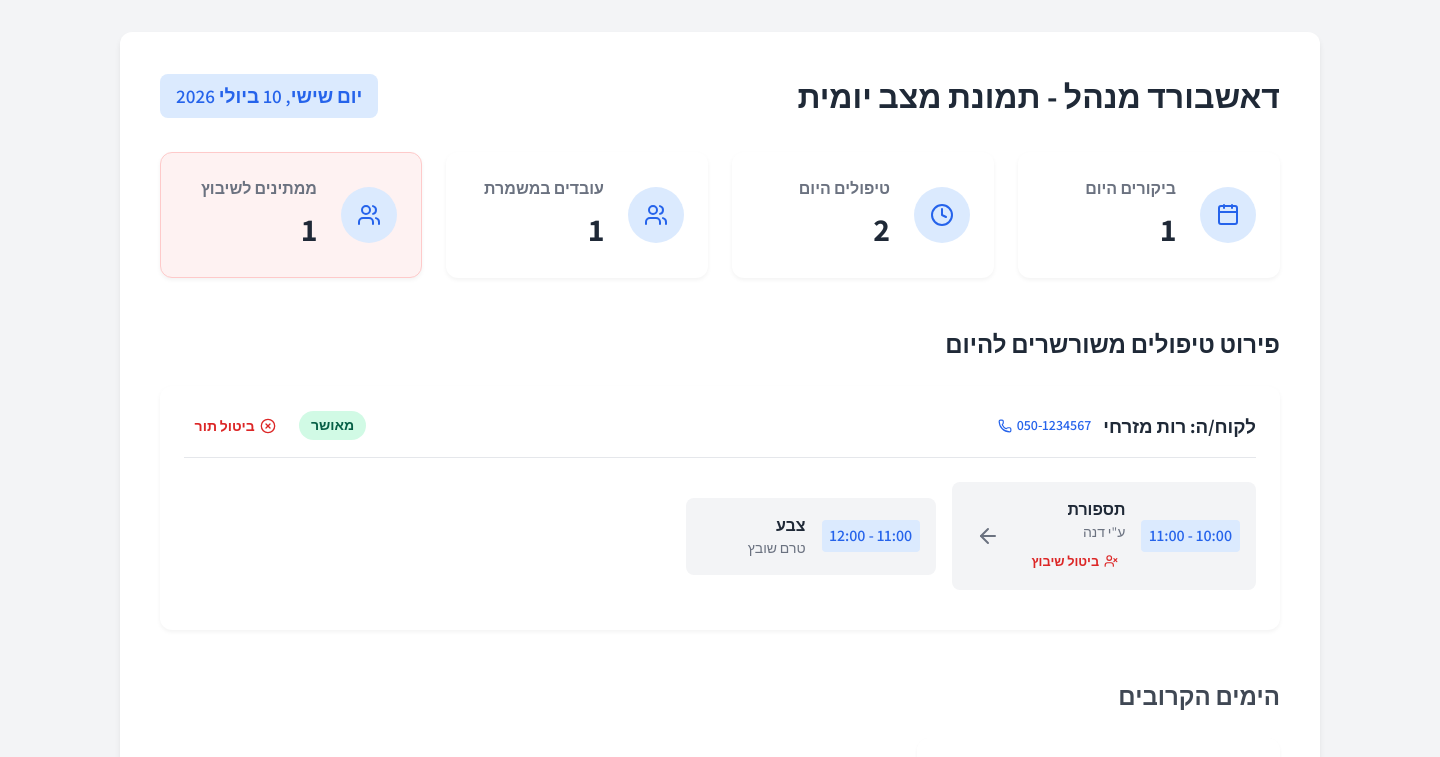
Test: ManagerDashboardPage › unassigning an item › unassigns after confirmation and marks the item unassigned
expect the heading "לקוח/ה: רות מזרחי" is shown: met, box [1103,412,1256,440]
What coordinates should you click on to do the following:
click the button "ביטול שיבוץ"
I would click on:
 (1075, 562)
Its box is [1024,549,1125,574].
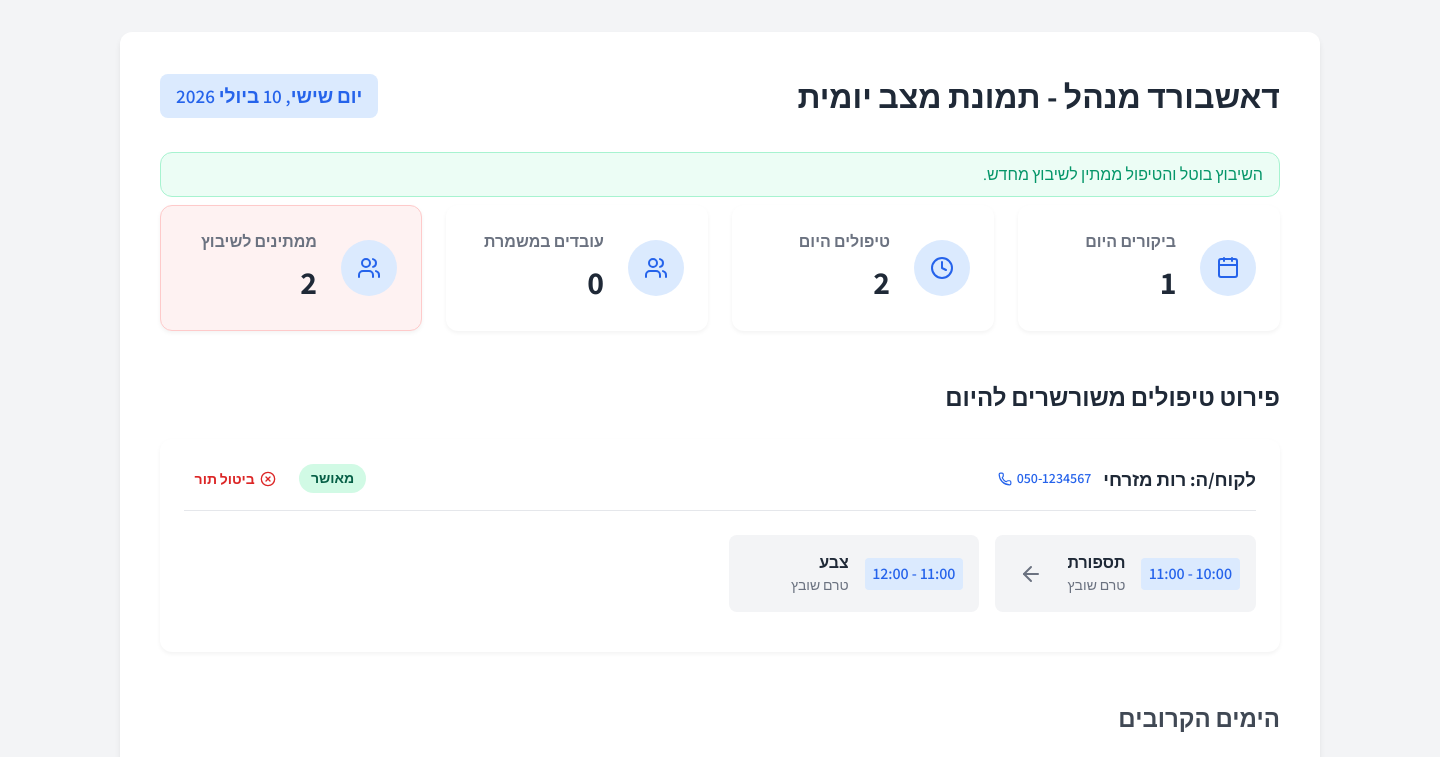
expect the text "השיבוץ בוטל והטיפול ממתין לשיבוץ מחדש." is shown: met, box [160,152,1280,197]
expect the text "ע\"י דנה" is gone: met
expect the button "ביטול שיבוץ" is gone: met
